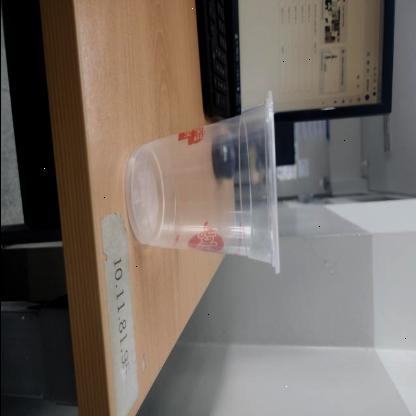Others: (124, 90, 280, 283)
